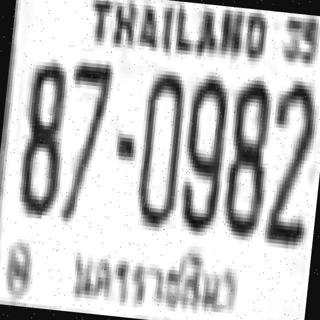N00: (133, 67, 187, 227)
N02: (264, 77, 318, 237), (264, 77, 317, 225)
N07: (58, 58, 111, 220)
N08: (219, 74, 274, 234), (16, 55, 70, 214)
N09: (176, 72, 228, 231)
